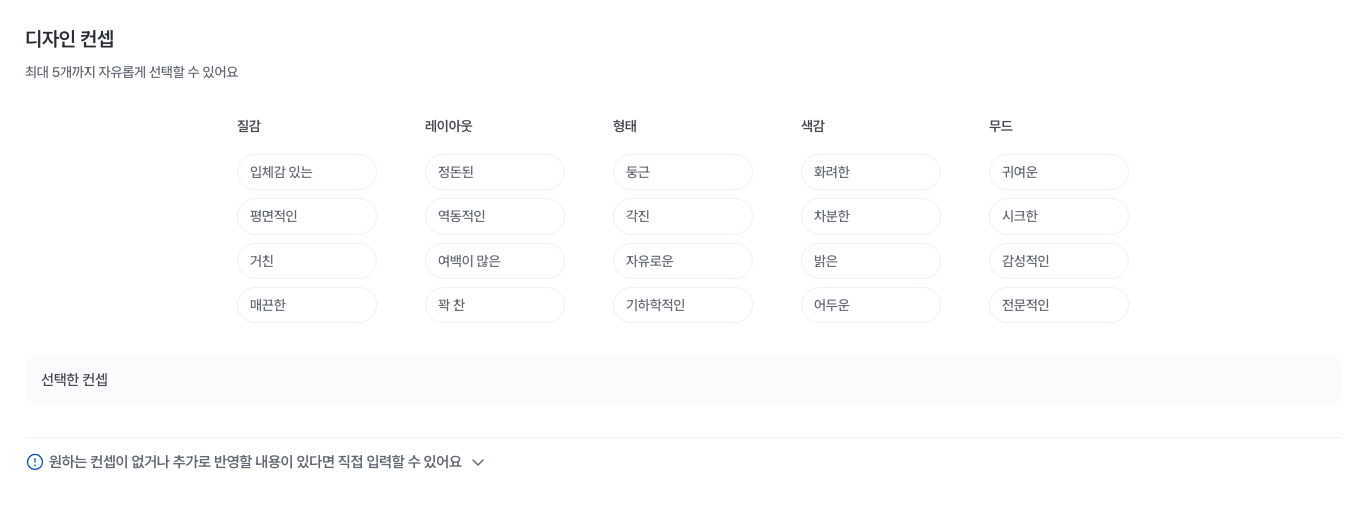
it: DesignConceptSection › 키워드를 클릭하면 선택되어 스토어와 선택한 컨셉 영역에 반영된다
The image size is (1366, 528).
Click the button "차분한".
click(871, 216)  # box [801,198,941,235]
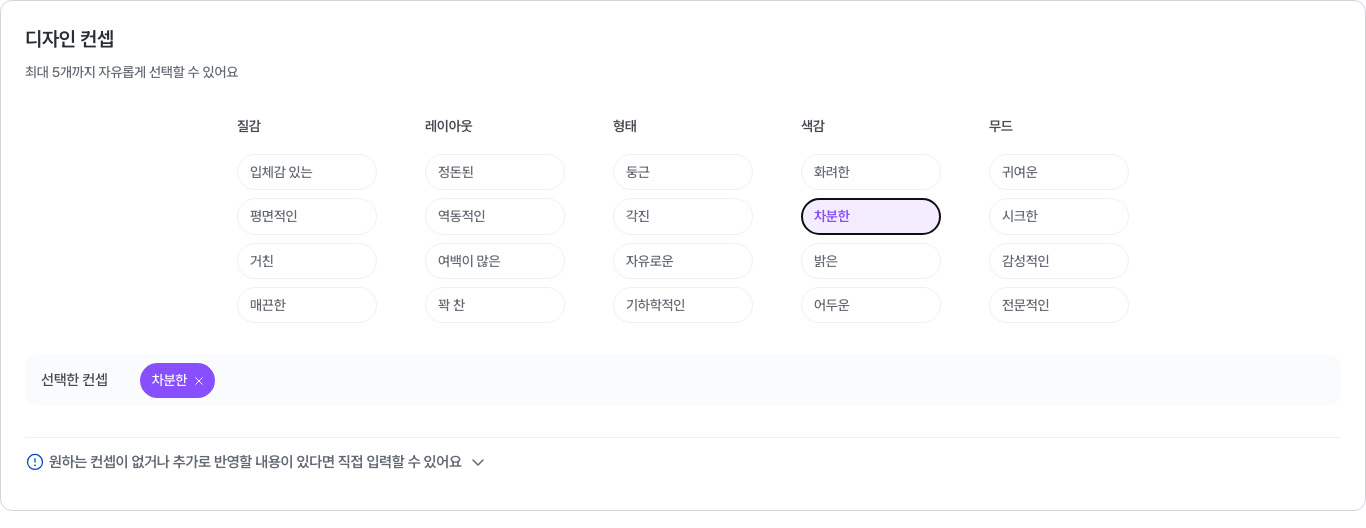
Expected: the button with aria-label "차분한 삭제" is shown, [140,363,215,398]
